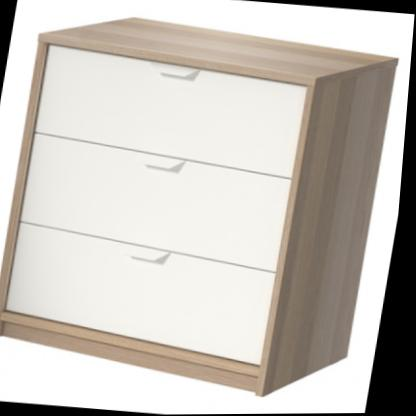Cabinet: (0, 5, 410, 410)
